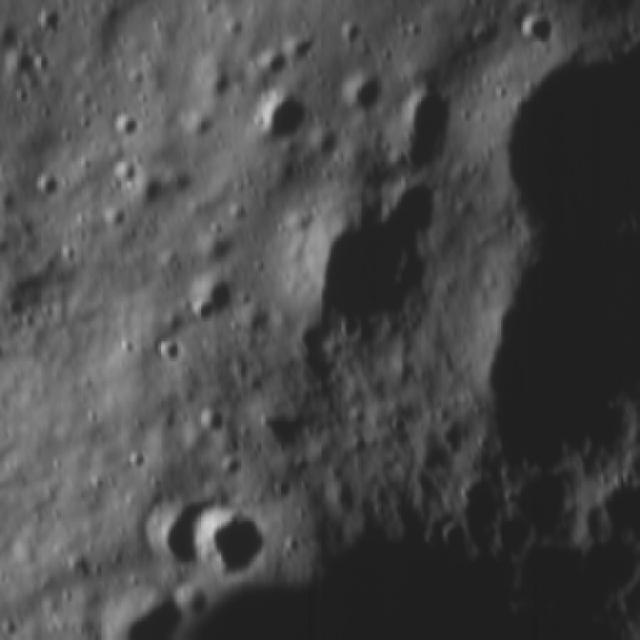crater: (198, 510, 271, 581), (148, 500, 205, 574), (105, 597, 180, 640), (511, 6, 552, 49), (338, 69, 374, 117), (244, 107, 288, 142), (194, 403, 226, 443), (213, 442, 242, 486), (38, 168, 64, 212), (288, 26, 321, 59), (151, 333, 183, 362), (242, 56, 278, 78), (271, 466, 291, 499), (109, 162, 129, 190), (118, 116, 140, 139), (106, 207, 131, 225), (371, 0, 402, 8)
